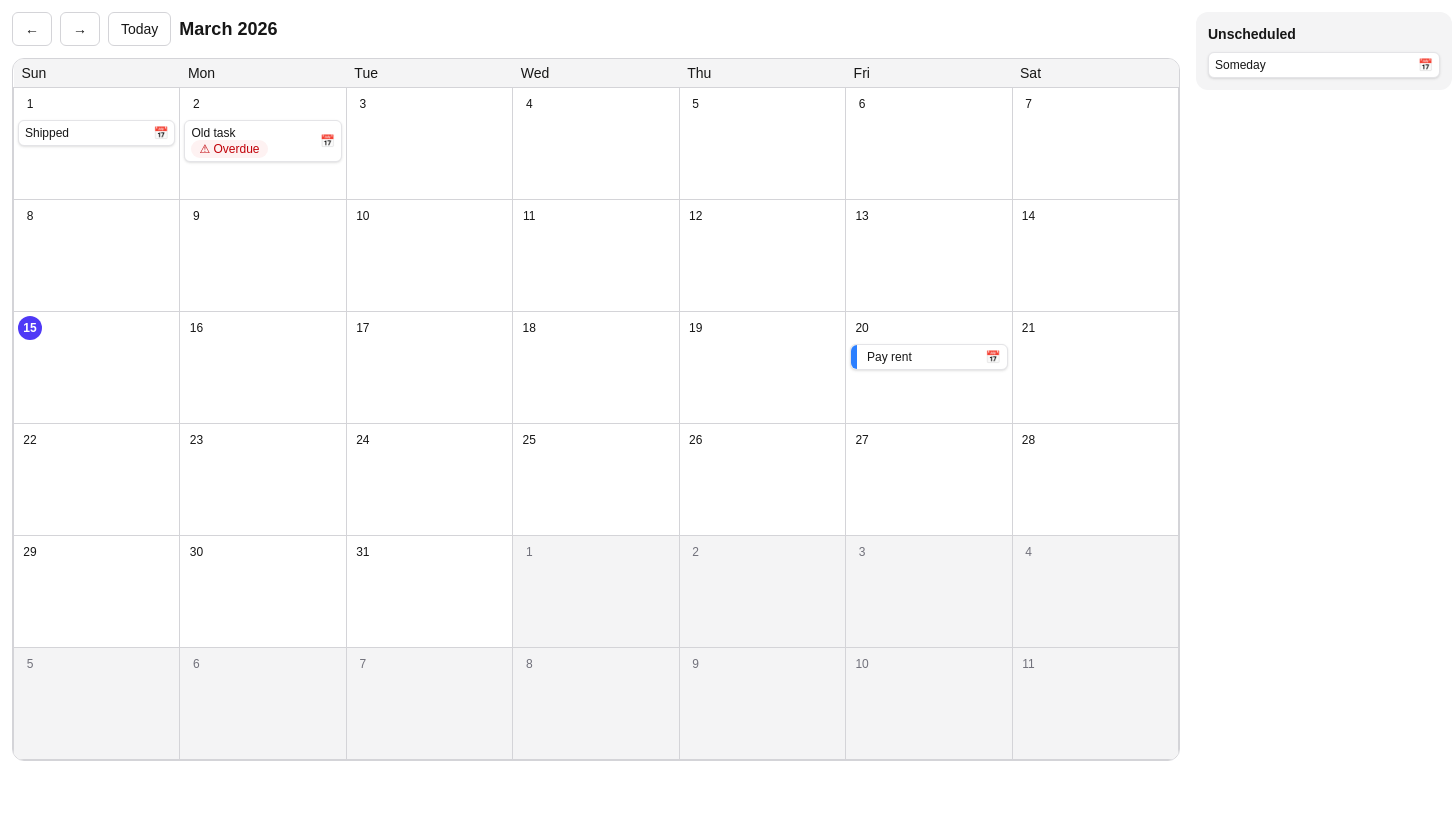
it: <CalendarView /> › navigates with Previous, Next and Today
Click the button named "Next month".
click(80, 29)  # box [60,12,100,46]
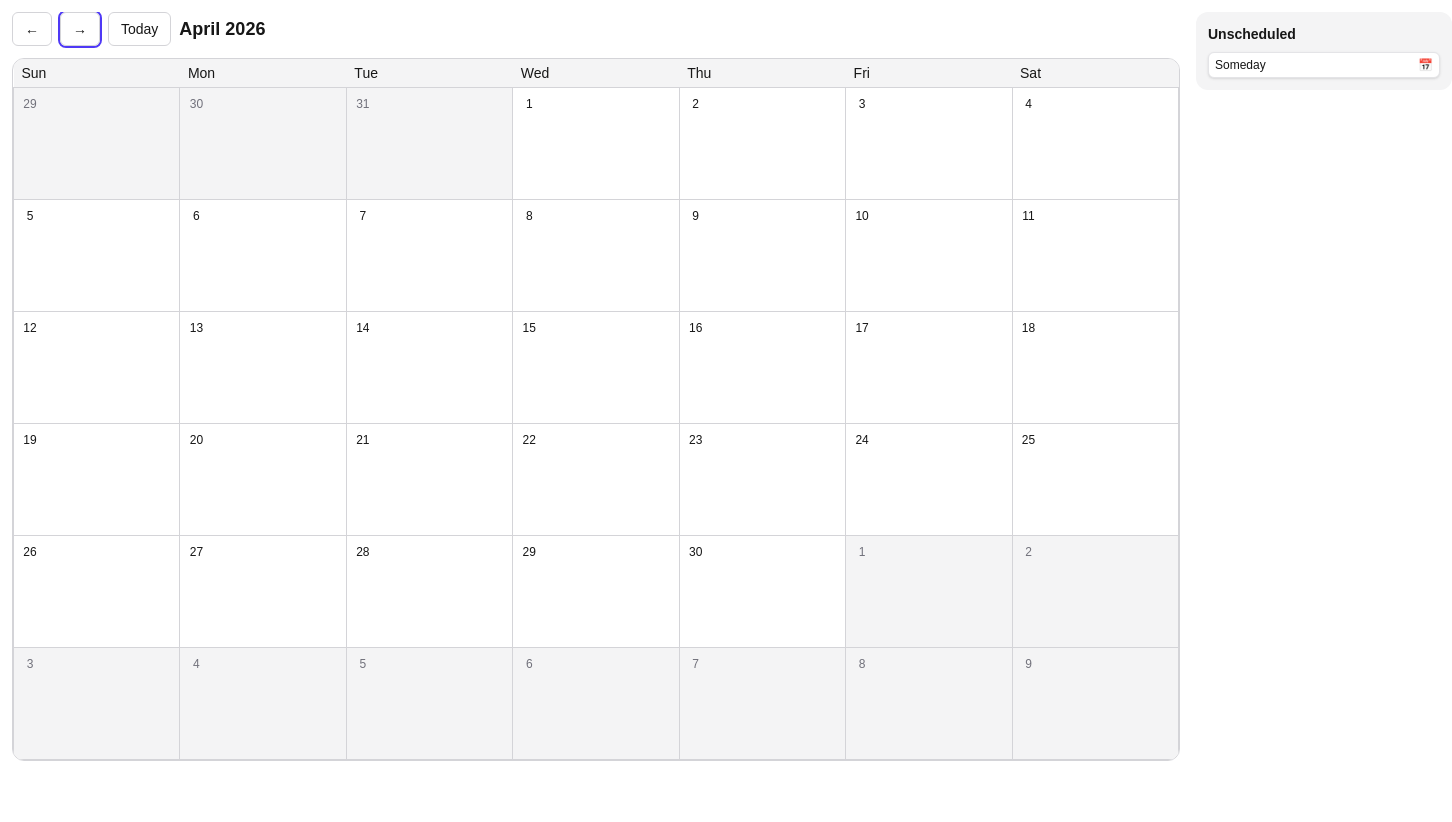
Expected: the heading "April 2026" is shown, [179,15,265,43]
Click the button named "Previous month".
click(32, 29)  # box [12,12,52,46]
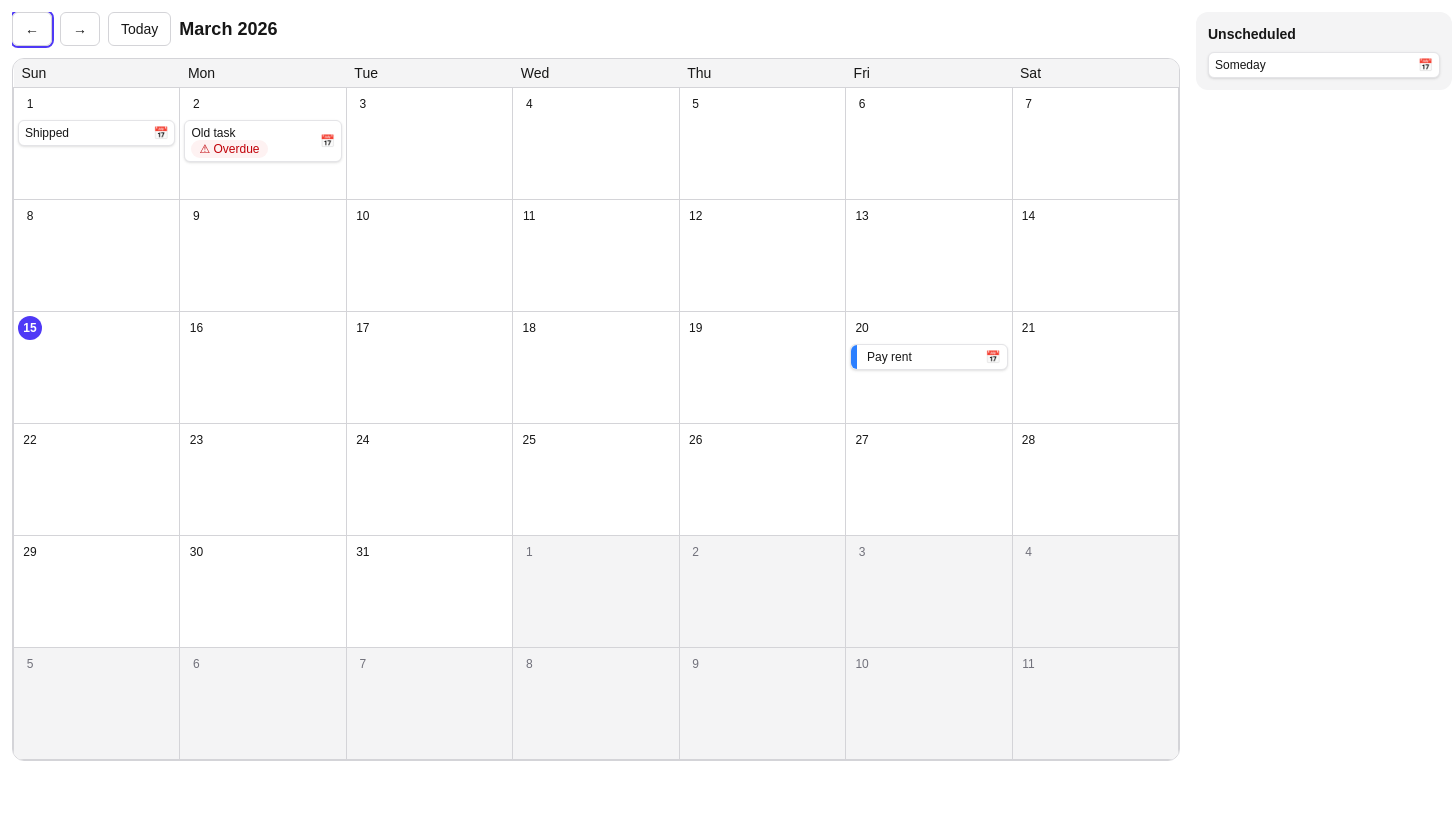
Click the button named "Previous month".
click(32, 29)  # box [12,12,52,46]
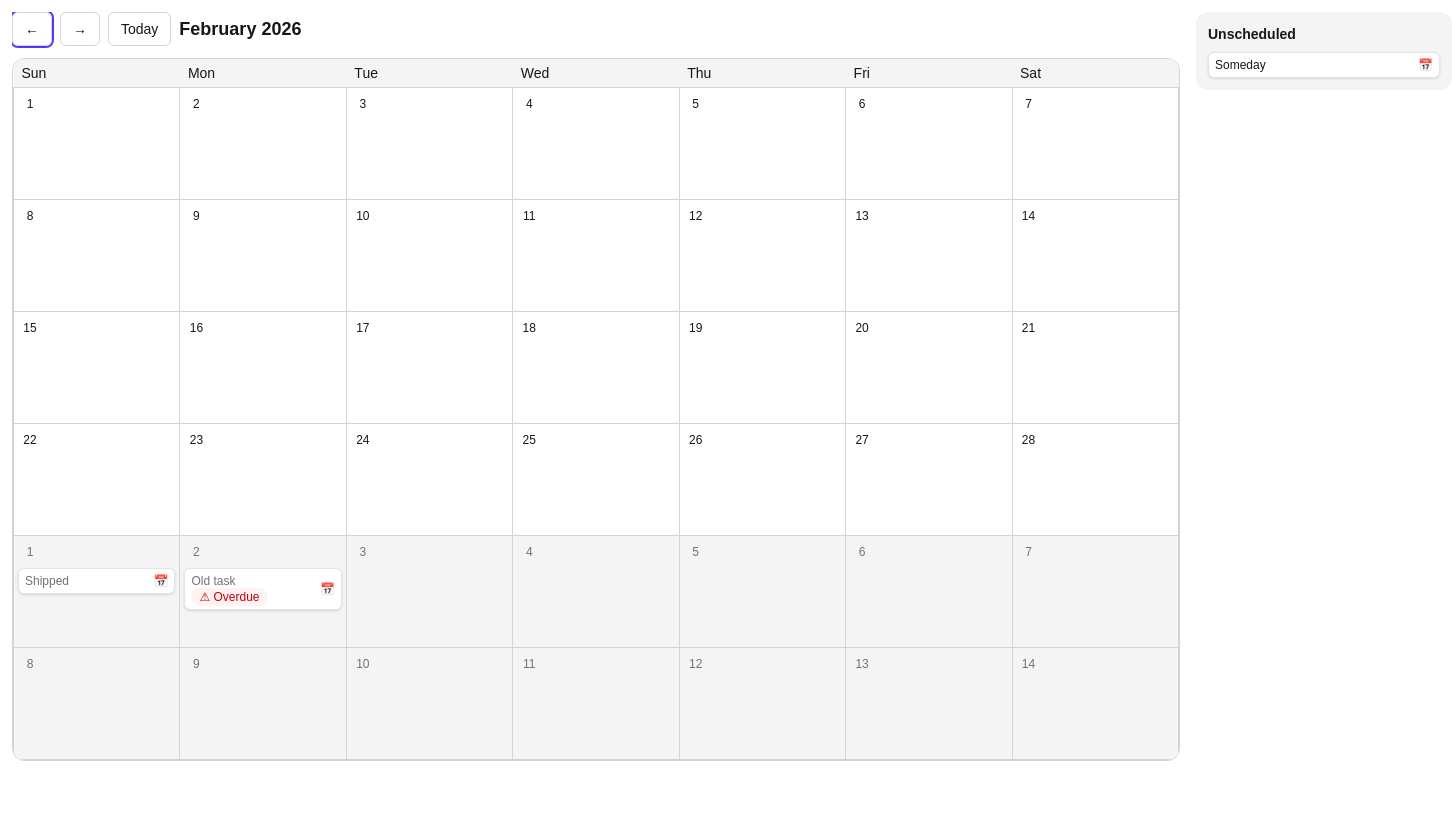
Expected: the heading "February 2026" is shown, [179,15,302,43]
Click the button "Today".
click(140, 29)  # box [108,12,171,46]
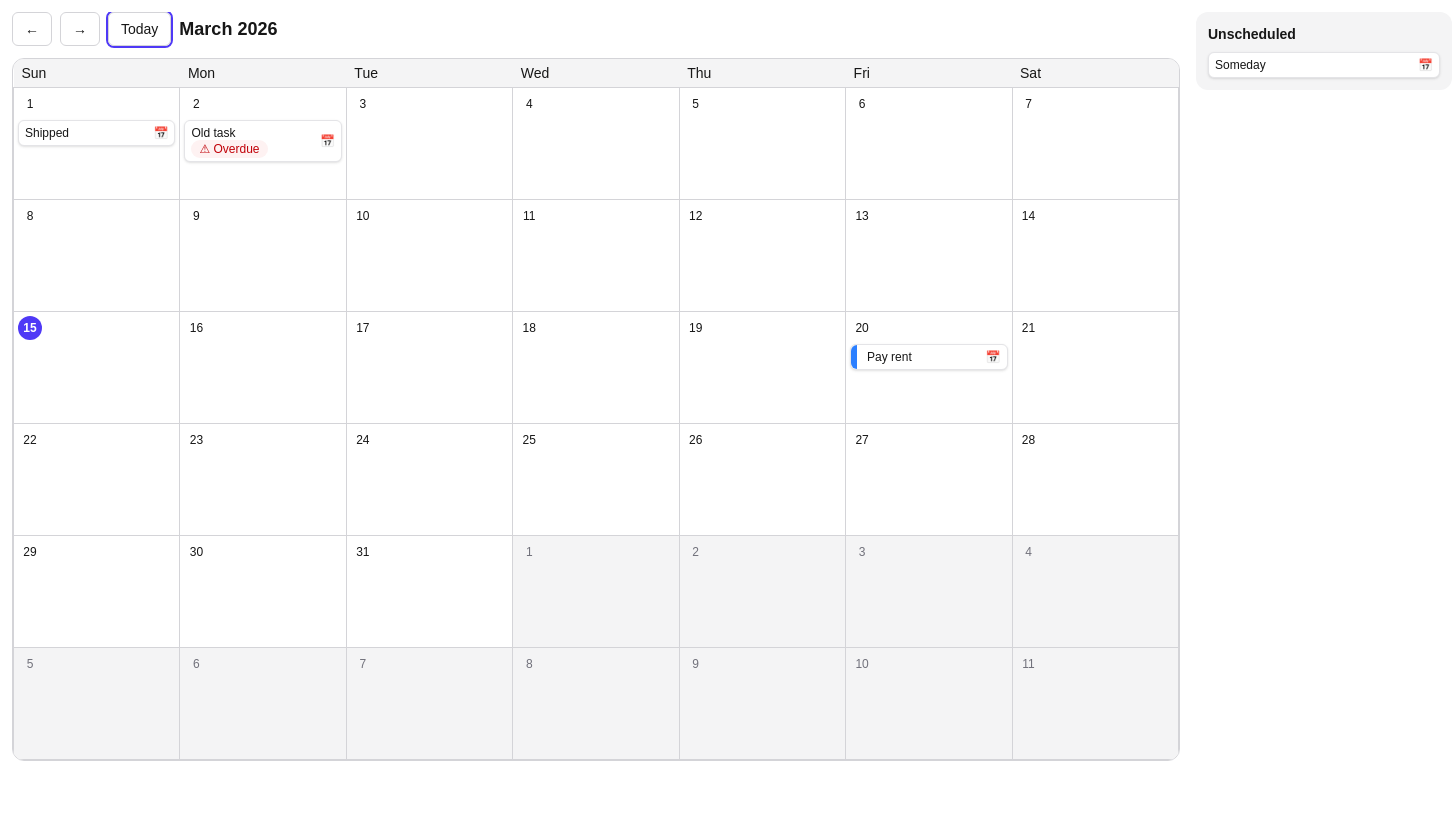
Expected: the heading "March 2026" is shown, [179,15,278,43]
